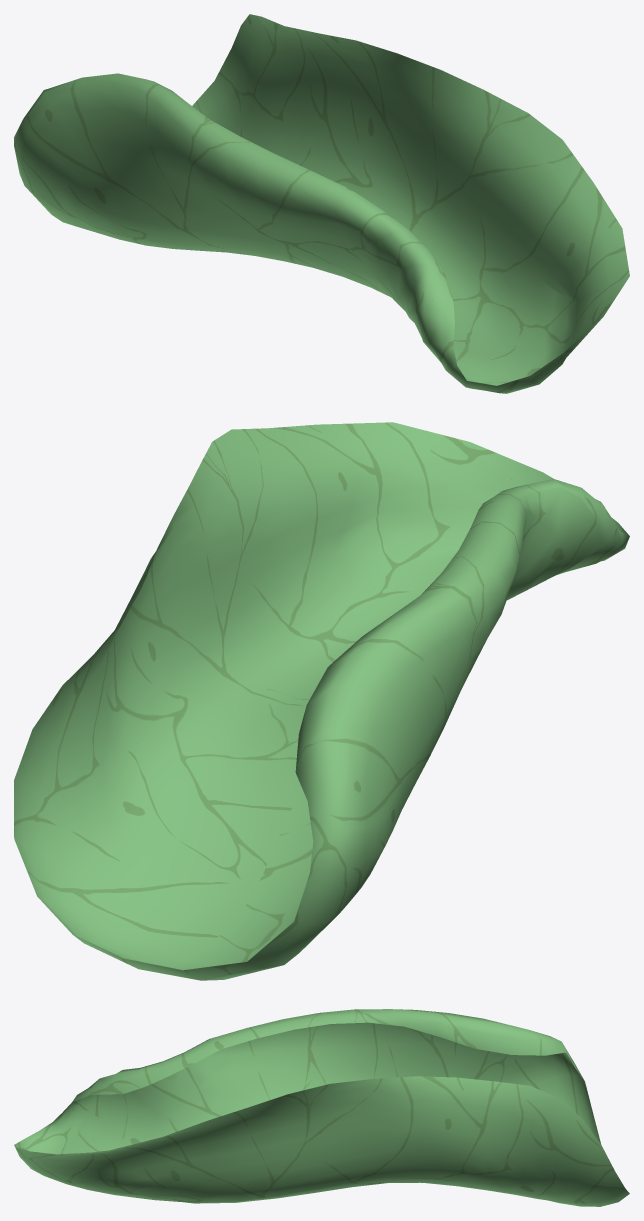
The model's file is Mesh_Home_RF_Leaf_03_SM.fbx.
The picture shows the model from 3 angles, top to bottom: view 1: azimuth 30°, elevation 25°; view 2: azimuth 150°, elevation 25°; view 3: azimuth 270°, elevation 25°; orthographic projection. The views are drawn at different scales.
Visible parts, largest first — view 1: Mesh_Home_RF_Leaf_03; view 2: Mesh_Home_RF_Leaf_03; view 3: Mesh_Home_RF_Leaf_03.
Part boxes in pixels (x1=…): Mesh_Home_RF_Leaf_03: x1=14, y1=14, x2=629, y2=393; Mesh_Home_RF_Leaf_03: x1=14, y1=422, x2=629, y2=980; Mesh_Home_RF_Leaf_03: x1=14, y1=1009, x2=629, y2=1206.
Bounding box in the file's own units: 1362 × 902 × 2888.
Materials: 1 (1 with a texture image).
